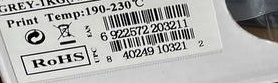1d: (109, 27, 196, 52)
